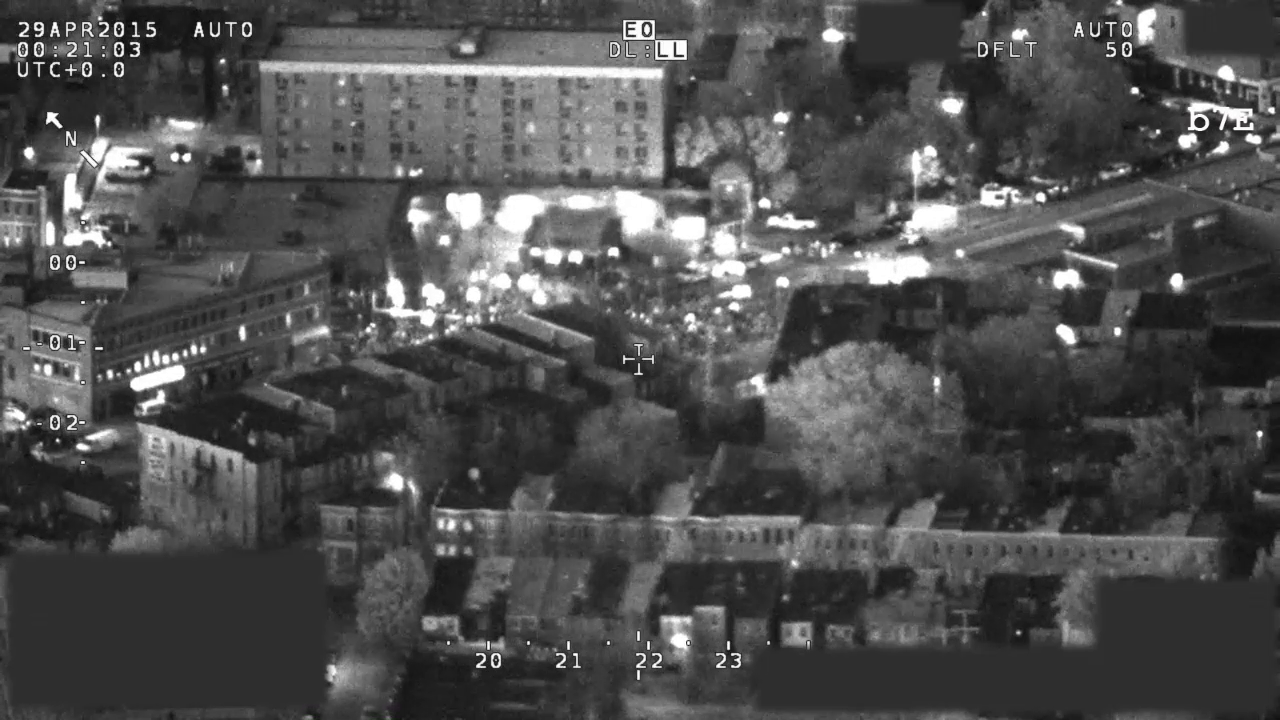vehicle: (896, 200, 965, 248), (979, 179, 1039, 210), (60, 224, 118, 251), (766, 209, 820, 236), (102, 158, 157, 184), (90, 209, 134, 237), (1092, 158, 1139, 184), (670, 258, 712, 287), (77, 428, 122, 455), (132, 396, 173, 422), (169, 138, 193, 168)
